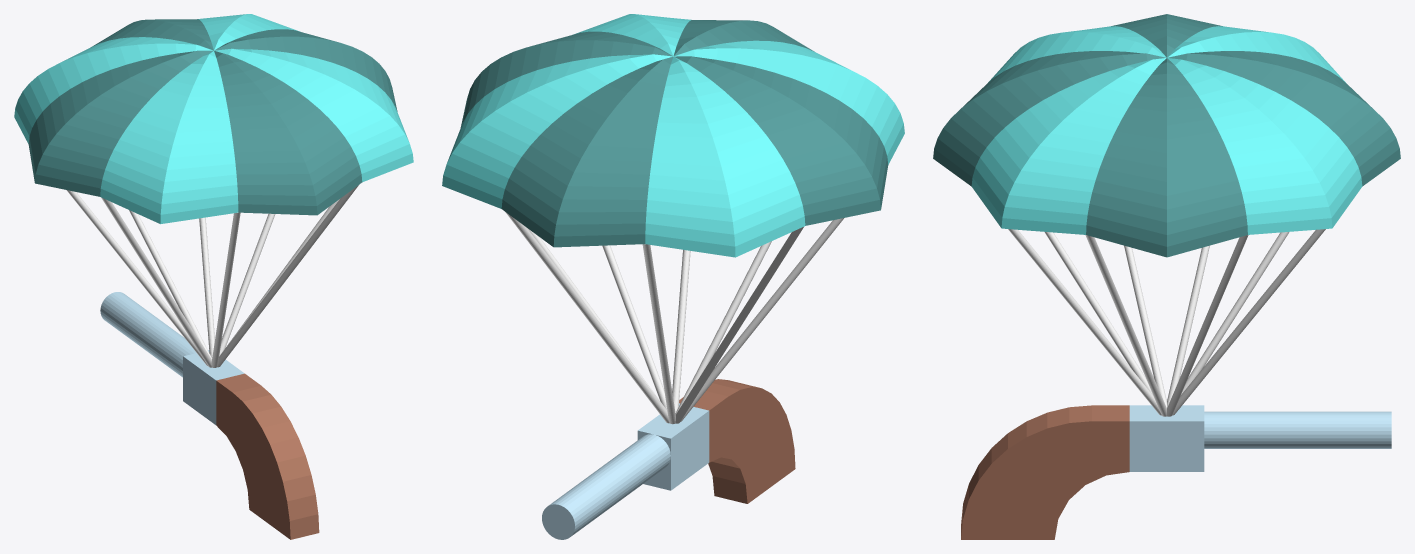
Rendered from ParachuteGun.dae.
The picture shows the model from 3 angles, left to right: view 1: azimuth 30°, elevation 25°; view 2: azimuth 150°, elevation 25°; view 3: azimuth 270°, elevation 25°; orthographic projection. The views are drawn at different scales.
Visible parts, largest first — view 1: Sphere.001, Cube, Cylinder, Cube.001, Cylinder.015, Cylinder.018, Cylinder.017, Cylinder.014, Cylinder.011, Cylinder.012, Cylinder.013, Cylinder.019; view 2: Sphere.001, Cube, Cylinder, Cube.001, Cylinder.013, Cylinder.017, Cylinder.018, Cylinder.012, Cylinder.019, Cylinder.014, Cylinder.015, Cylinder.011; view 3: Sphere.001, Cube, Cylinder, Cube.001, Cylinder.013, Cylinder.015, Cylinder.011, Cylinder.019, Cylinder.012, Cylinder.014, Cylinder.017, Cylinder.018.
Boxes of the visible parts, x1=… form: Sphere.001: x1=14, y1=14, x2=413, y2=224; Cube: x1=216, y1=373, x2=319, y2=539; Cylinder: x1=100, y1=292, x2=196, y2=377; Cube.001: x1=183, y1=350, x2=244, y2=424; Cylinder.015: x1=217, y1=185, x2=358, y2=367; Cylinder.018: x1=66, y1=190, x2=207, y2=365; Cylinder.017: x1=101, y1=197, x2=212, y2=367; Cylinder.014: x1=211, y1=212, x2=240, y2=367; Cylinder.011: x1=219, y1=213, x2=275, y2=355; Cylinder.012: x1=129, y1=210, x2=211, y2=359; Cylinder.013: x1=199, y1=217, x2=214, y2=358; Cylinder.019: x1=219, y1=199, x2=339, y2=356; Sphere.001: x1=442, y1=14, x2=904, y2=257; Cube: x1=679, y1=379, x2=795, y2=503; Cylinder: x1=542, y1=434, x2=670, y2=539; Cube.001: x1=637, y1=403, x2=709, y2=490; Cylinder.013: x1=505, y1=212, x2=669, y2=423; Cylinder.017: x1=680, y1=218, x2=843, y2=421; Cylinder.018: x1=675, y1=227, x2=803, y2=423; Cylinder.012: x1=642, y1=244, x2=675, y2=424; Cylinder.019: x1=602, y1=245, x2=667, y2=410; Cylinder.014: x1=675, y1=241, x2=771, y2=414; Cylinder.015: x1=672, y1=250, x2=690, y2=412; Cylinder.011: x1=527, y1=228, x2=666, y2=410; Sphere.001: x1=933, y1=14, x2=1400, y2=257; Cube: x1=961, y1=405, x2=1129, y2=539; Cylinder: x1=1204, y1=411, x2=1391, y2=448; Cube.001: x1=1129, y1=405, x2=1204, y2=471; Cylinder.013: x1=1172, y1=229, x2=1325, y2=415; Cylinder.015: x1=1008, y1=229, x2=1161, y2=415; Cylinder.011: x1=1167, y1=235, x2=1248, y2=416; Cylinder.019: x1=1085, y1=235, x2=1166, y2=416; Cylinder.012: x1=1181, y1=232, x2=1289, y2=394; Cylinder.014: x1=1044, y1=232, x2=1152, y2=394; Cylinder.017: x1=1124, y1=245, x2=1166, y2=407; Cylinder.018: x1=1167, y1=245, x2=1209, y2=407.
Size of the model in its own units: 25 by 25 by 28.22.
